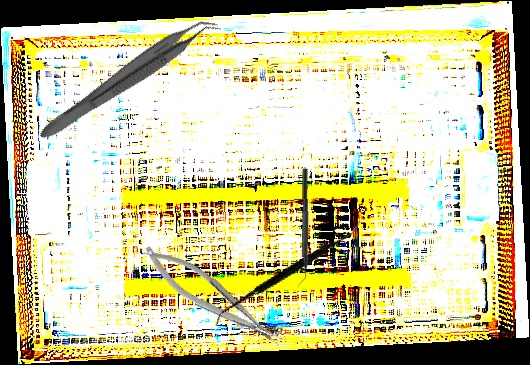Chopper: (293, 167, 311, 289)
Needle Holder: (136, 234, 288, 361)
Spatula Surgical: (214, 184, 362, 363)
Tissue Forceps: (35, 5, 223, 153)
